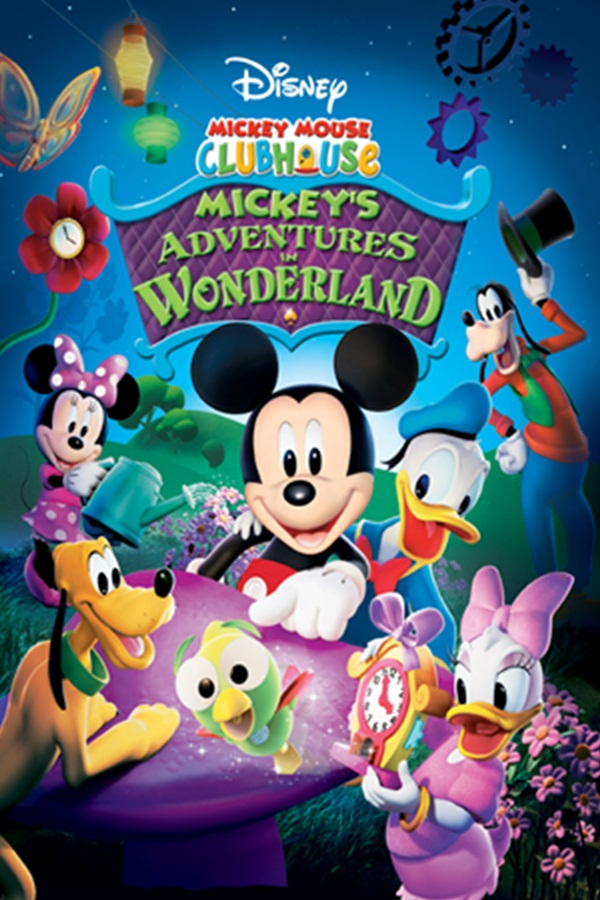Mickey: (190, 320, 420, 557)
